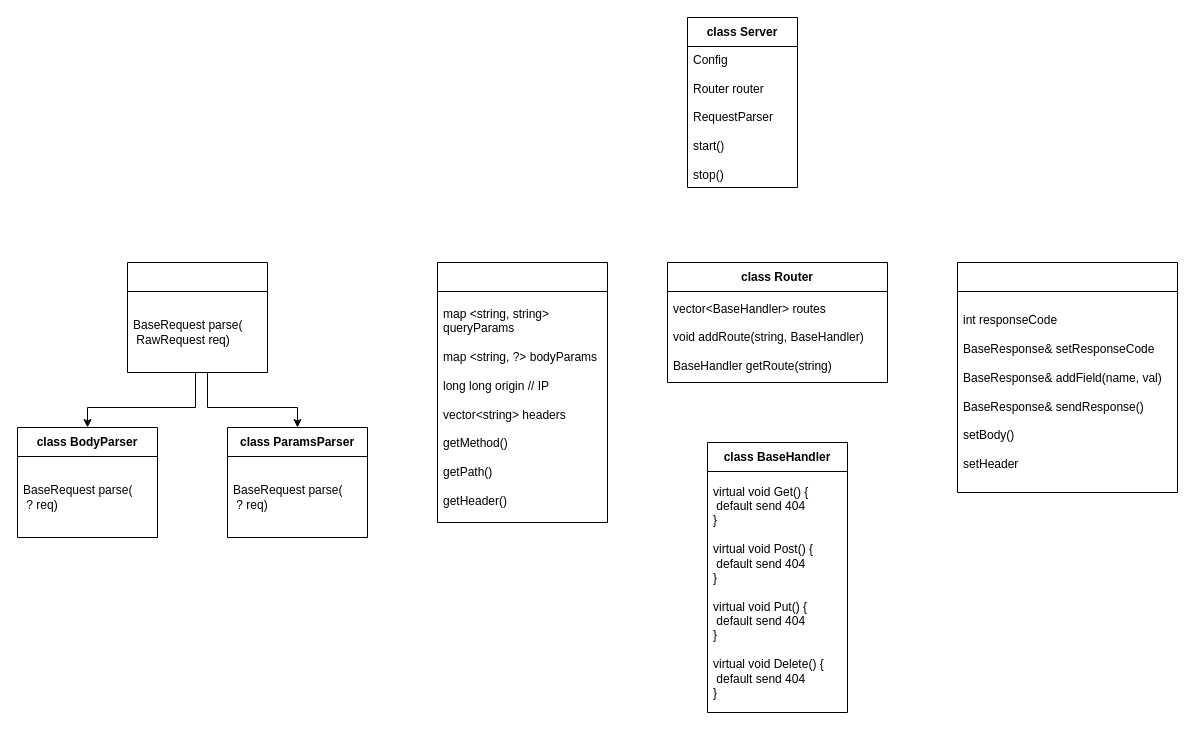
This 1195x730 diagram has some shape labels left out. The shapes that lost their labels are listed below. From the top down, each one's box as (x1, y1, x2, y2) in pixels, then its label:
(126, 262, 268, 372): class RequestParser
(436, 262, 608, 522): class BaseRequest
(956, 262, 1178, 492): class BaseResponse
